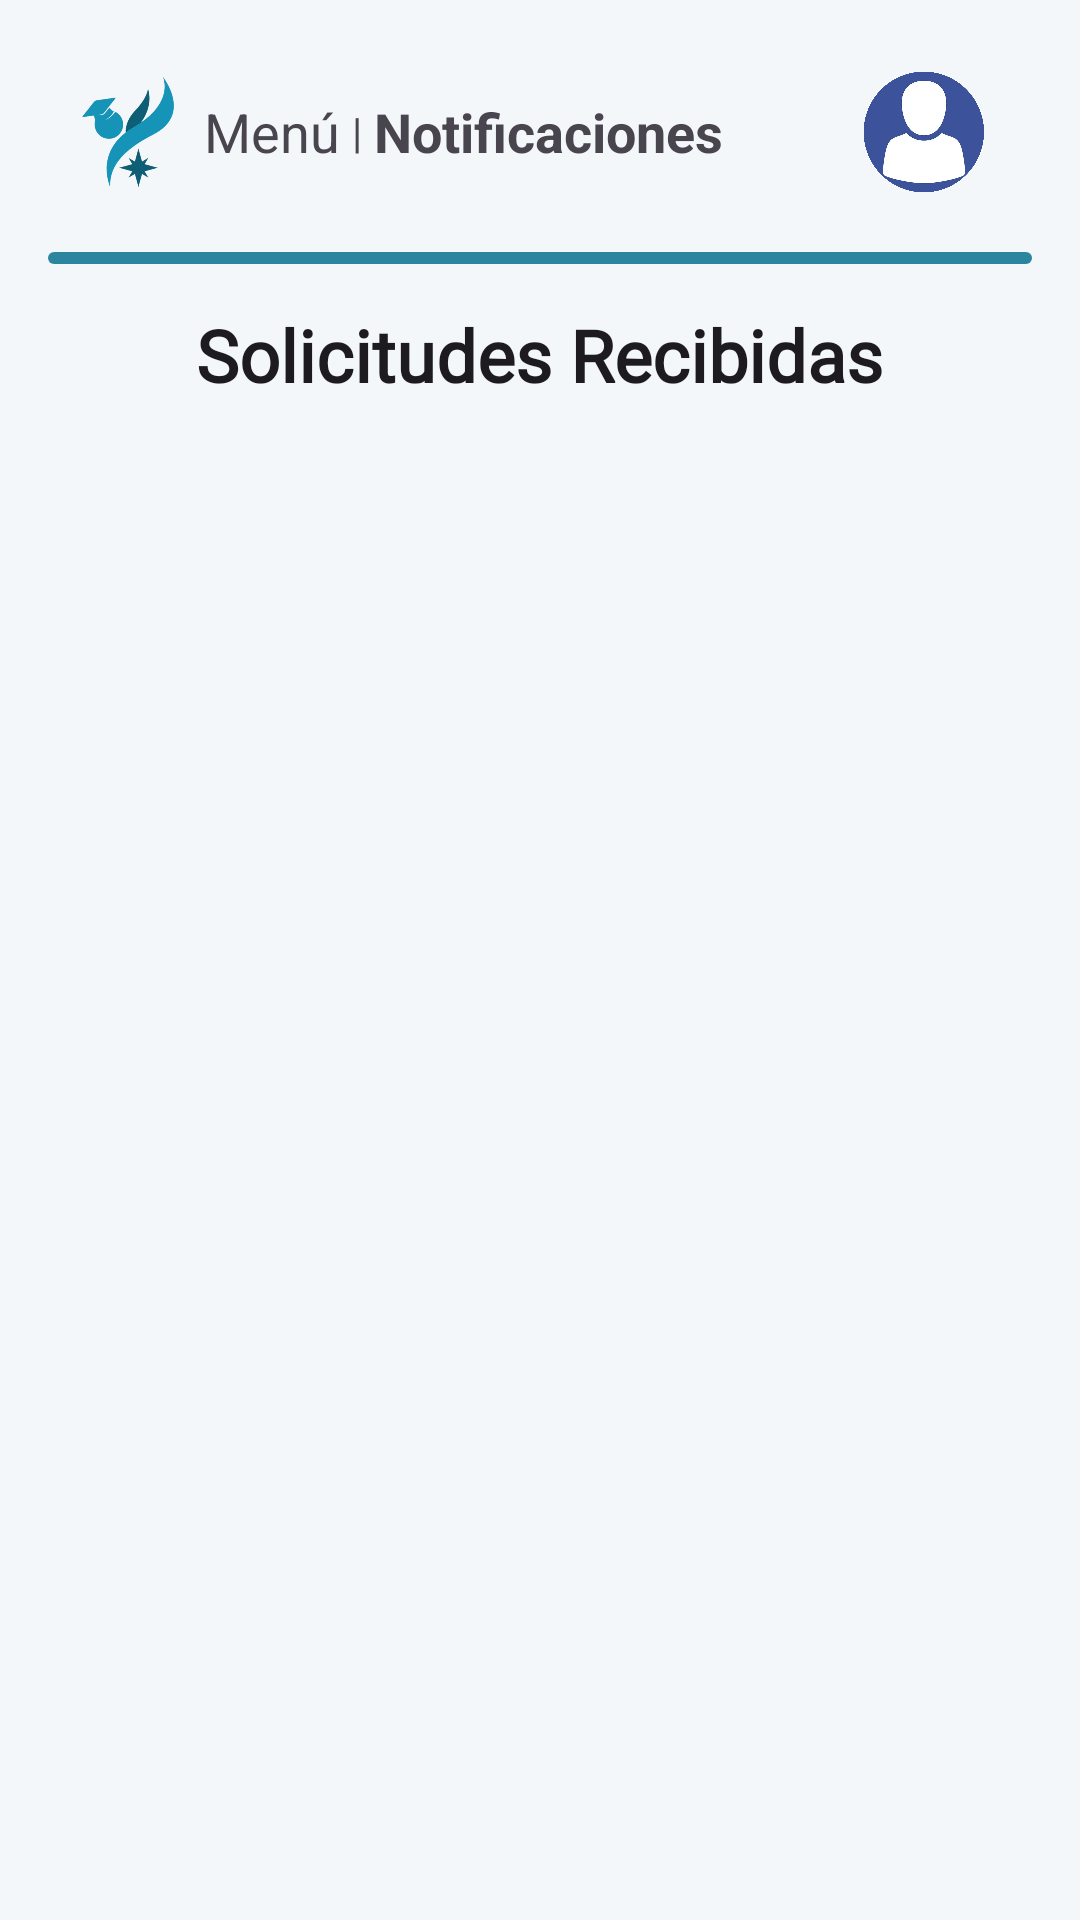

Point at icon controls on the screen. Image size 1080px×1920px, points as (x,y).
Perfil: (924,132)
